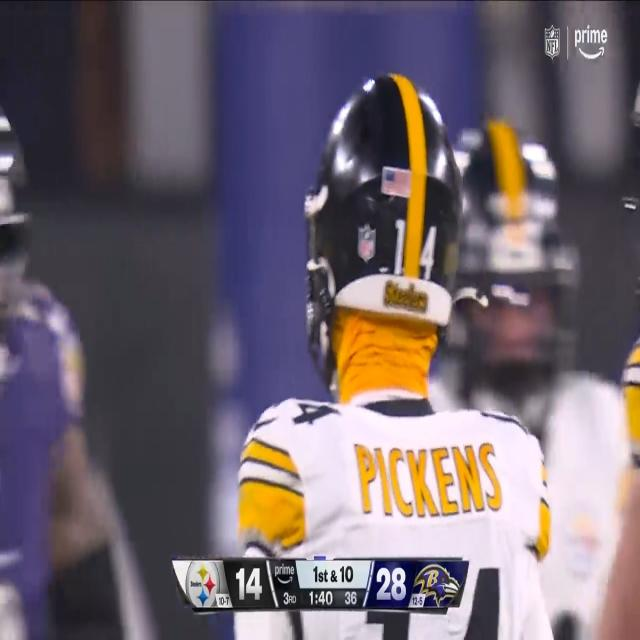Player: (223, 56, 553, 549)
